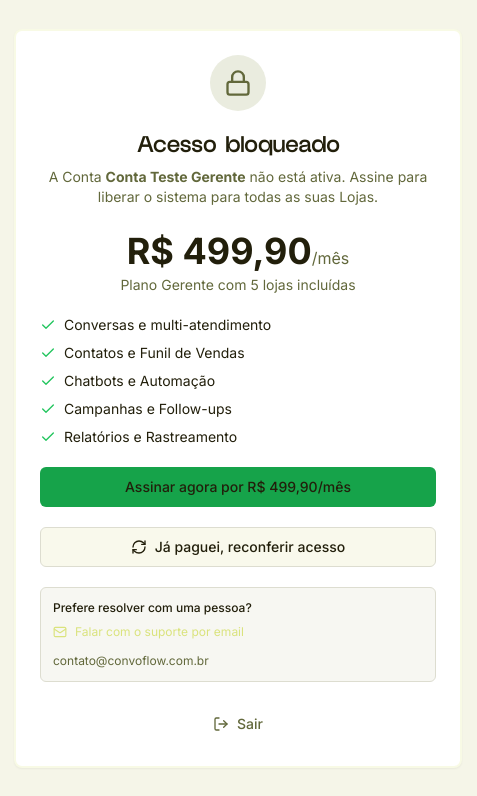
Test: GERENTE — bloqueado, mas com caminho de pagamento › resposta sem URL não navega e explica o motivo
Click the button "Assinar agora por R$ 499,90/mês" at (238, 486), box [40, 466, 436, 506]
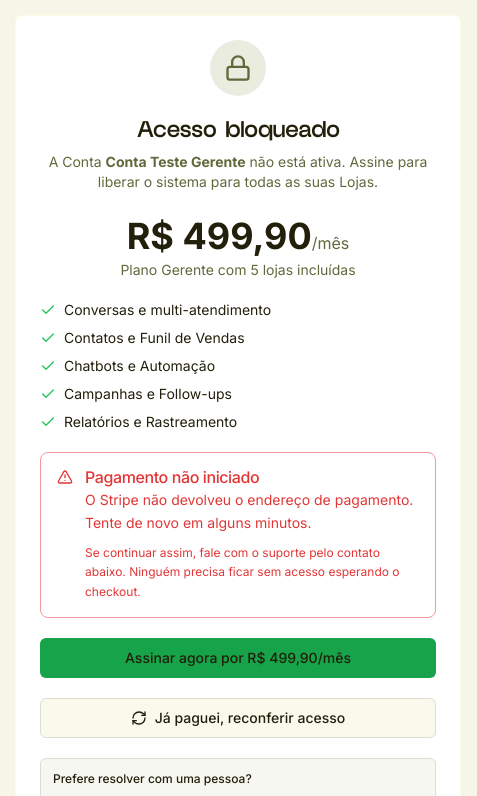
Expected: the text "não devolveu o endereço de pagamento" is shown, [85, 491, 413, 531]
